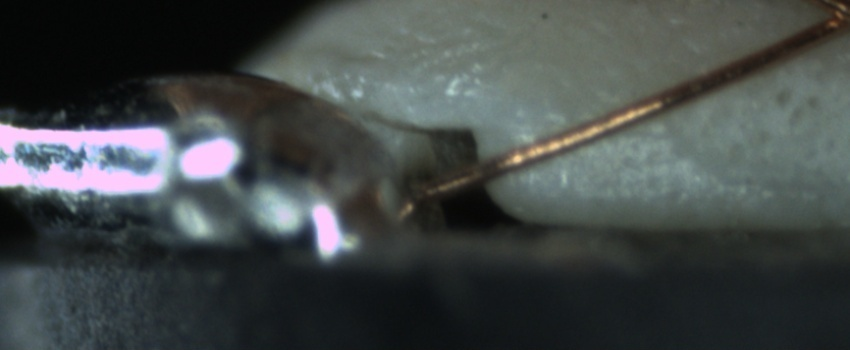CL: (804, 1, 850, 42)
